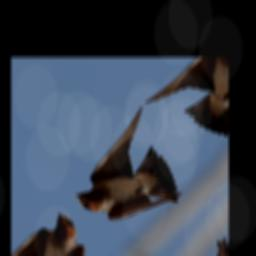Swallow: (64, 105, 207, 253)
